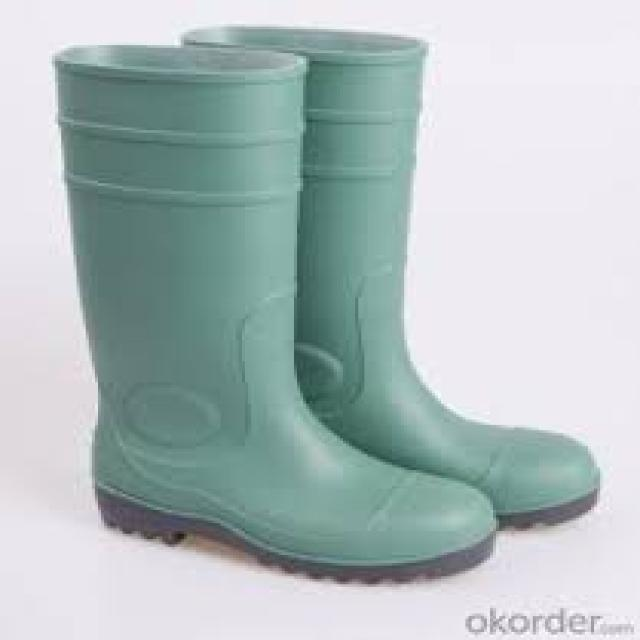shoes: (58, 25, 599, 585)
